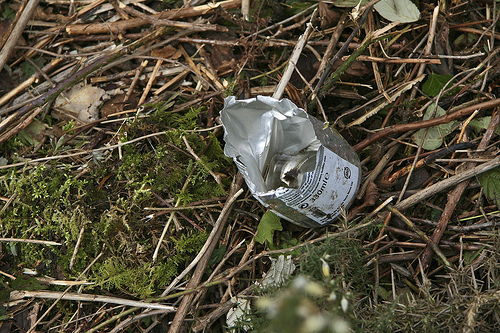litter: (215, 94, 363, 230)
